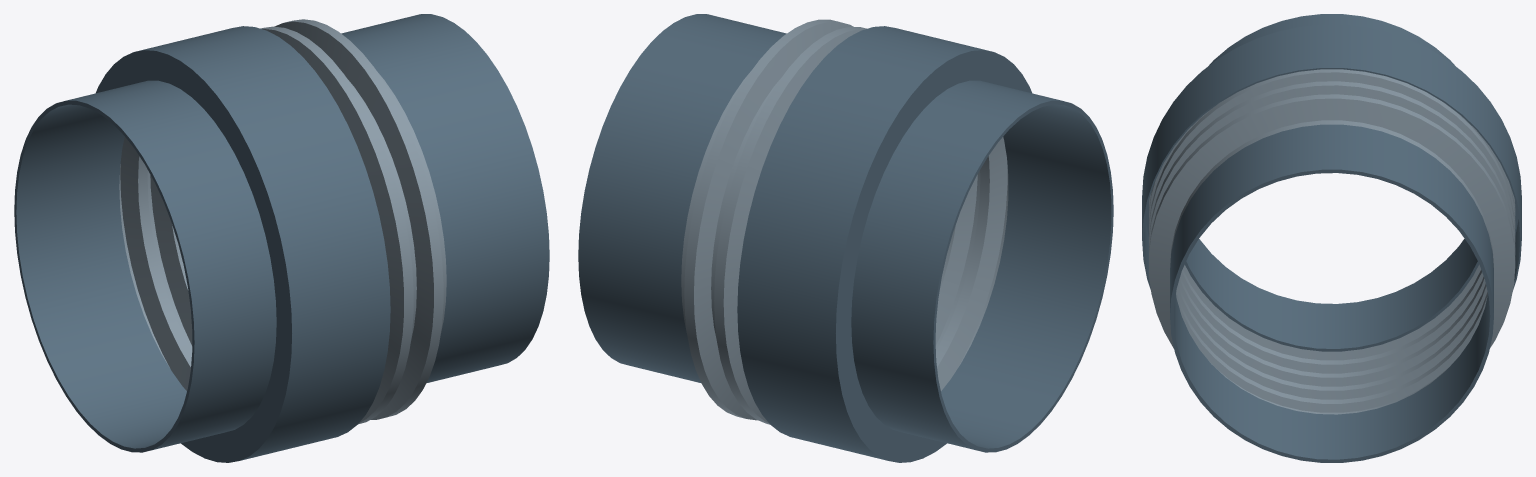
Rendered from silf-dn1000-L1160-D1020-k-o1256.glb.
The picture shows the model from 3 angles, left to right: view 1: azimuth 30°, elevation 25°; view 2: azimuth 150°, elevation 25°; view 3: azimuth 270°, elevation 25°; orthographic projection. The views are drawn at different scales.
Parts seen in each view (by area): view 1: patrubok_1, osnovanie_kozhuh_1, patrubok_2, prokladka_silfon_1; view 2: patrubok_1, osnovanie_kozhuh_1, patrubok_2, prokladka_silfon_1; view 3: prokladka_silfon_1, patrubok_2, osnovanie_kozhuh_1, patrubok_1.
Boxes of the visible parts, <box> form: patrubok_1: <box>14,80,276,452</box>; osnovanie_kozhuh_1: <box>96,26,390,462</box>; patrubok_2: <box>341,14,549,383</box>; prokladka_silfon_1: <box>119,19,446,424</box>; patrubok_1: <box>851,80,1113,452</box>; osnovanie_kozhuh_1: <box>737,26,1031,462</box>; patrubok_2: <box>578,14,786,382</box>; prokladka_silfon_1: <box>681,19,1008,424</box>; prokladka_silfon_1: <box>1149,69,1515,414</box>; patrubok_2: <box>1170,124,1493,462</box>; osnovanie_kozhuh_1: <box>1142,24,1521,291</box>; patrubok_1: <box>1185,14,1479,351</box>.
Bounding box in the file's own units: 1160 × 1193 × 1195.
